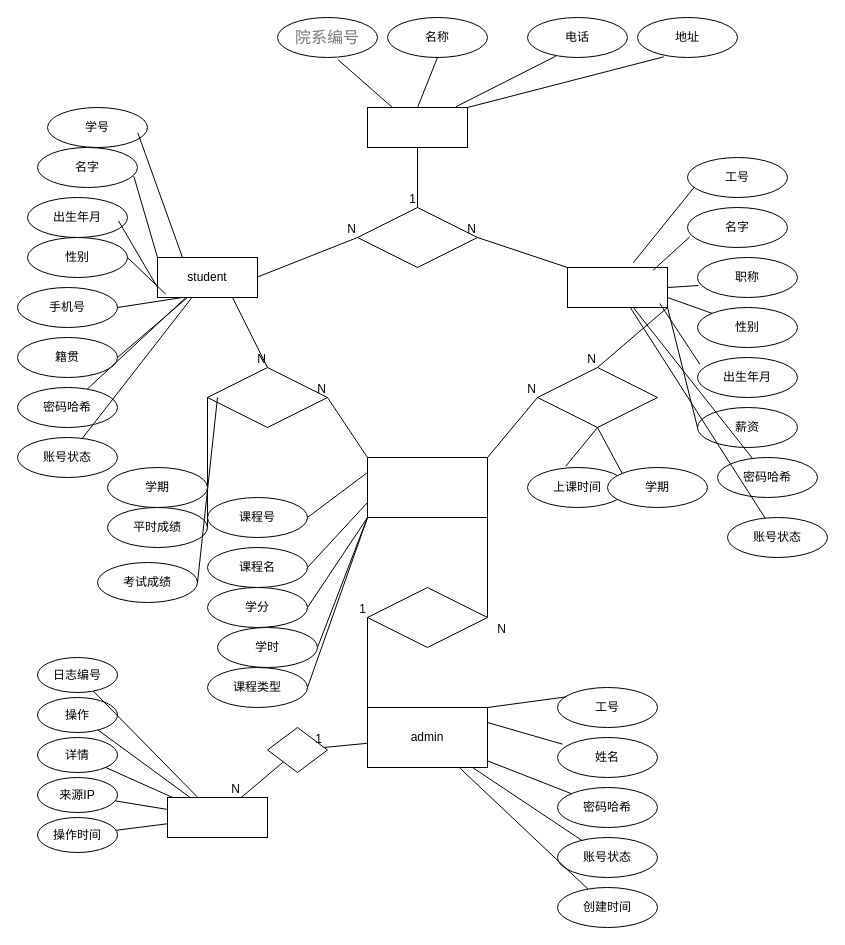
Image size: 845x945. Some labels were removed from this diagram. Each missing label, with the centre of its shape:
audit_log: pixel 217 817
course: pixel 427 487
department: pixel 417 127
teacher: pixel 617 287
审计: pixel 297 749
属于: pixel 417 237
开课: pixel 597 397
管理: pixel 427 617
选课: pixel 267 397
